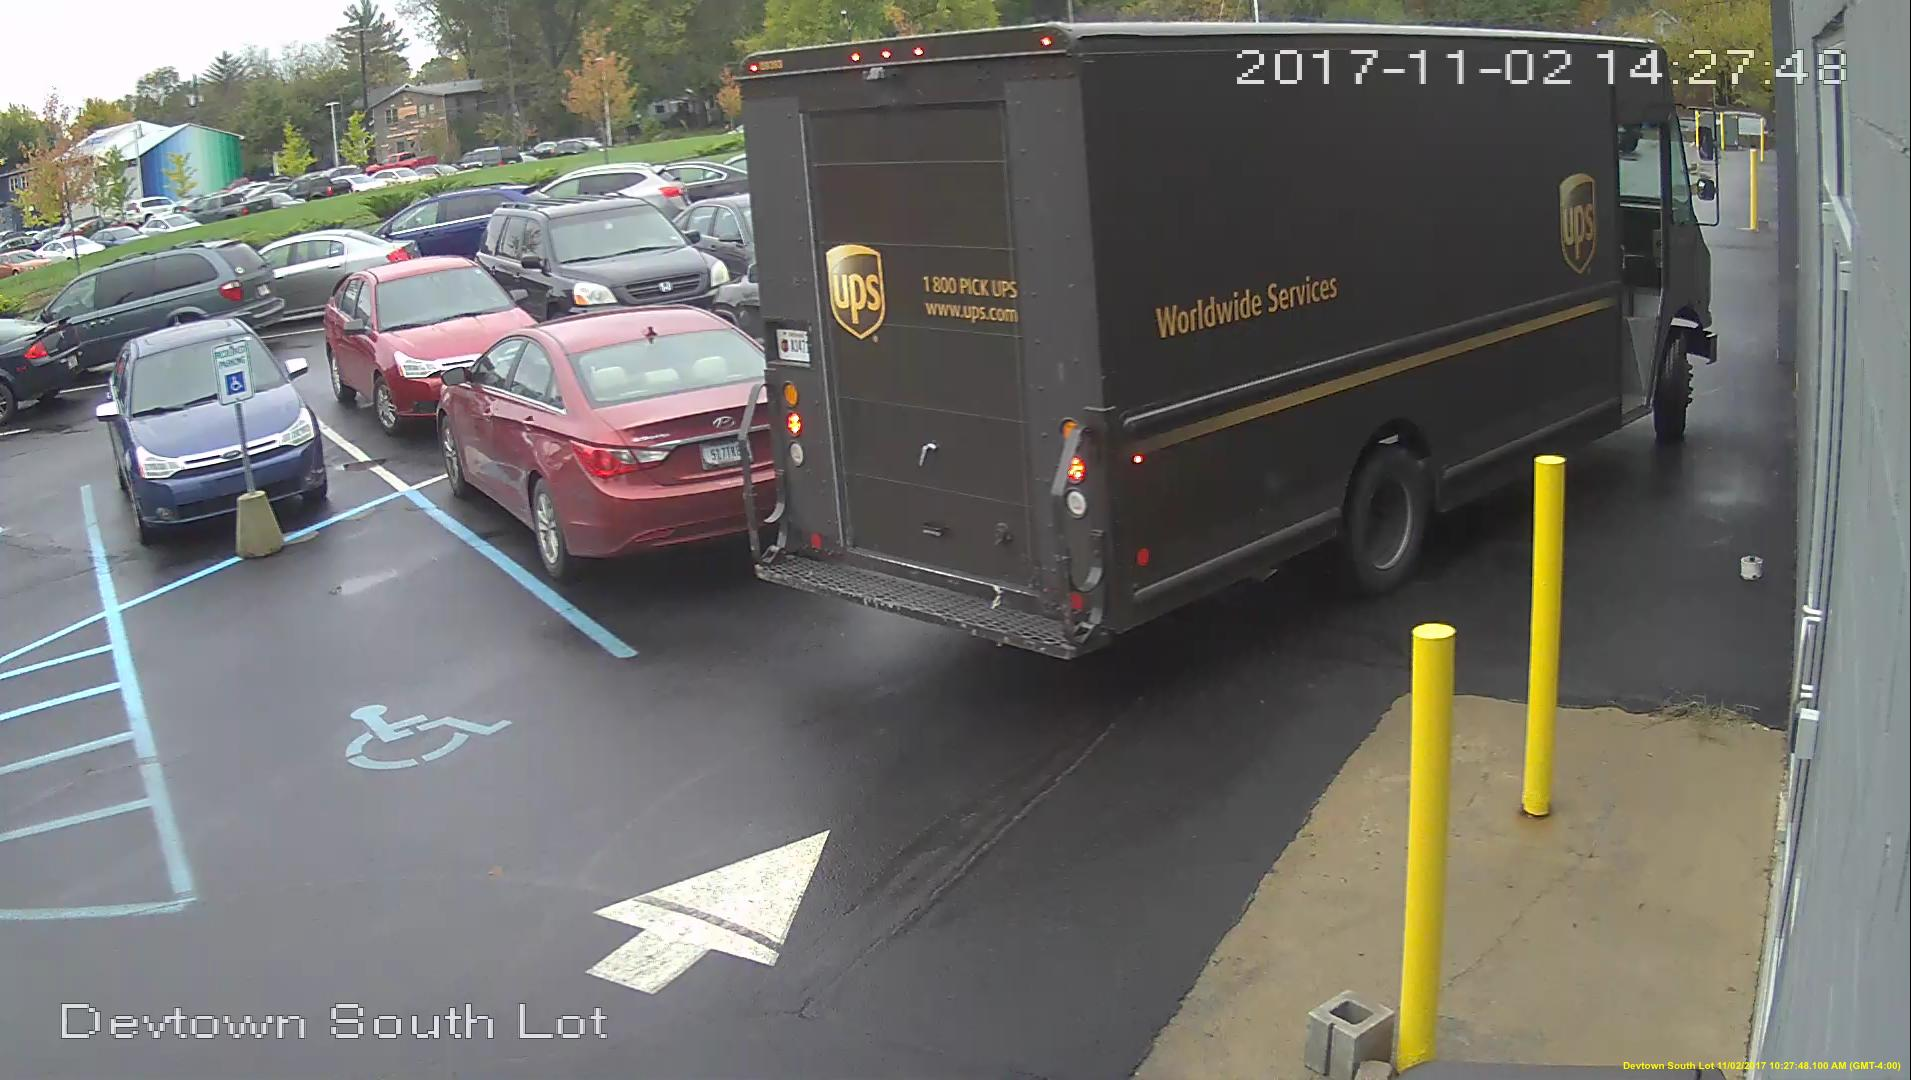ups_truck: (753, 30, 1704, 639)
